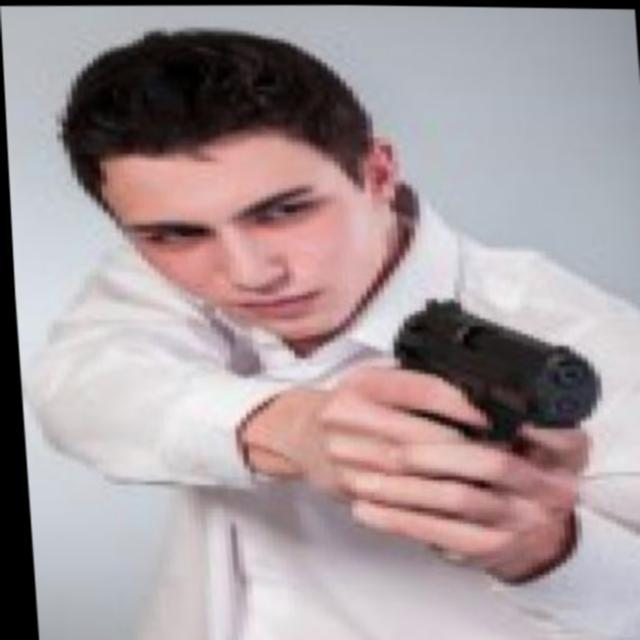weapon: (362, 284, 624, 570)
